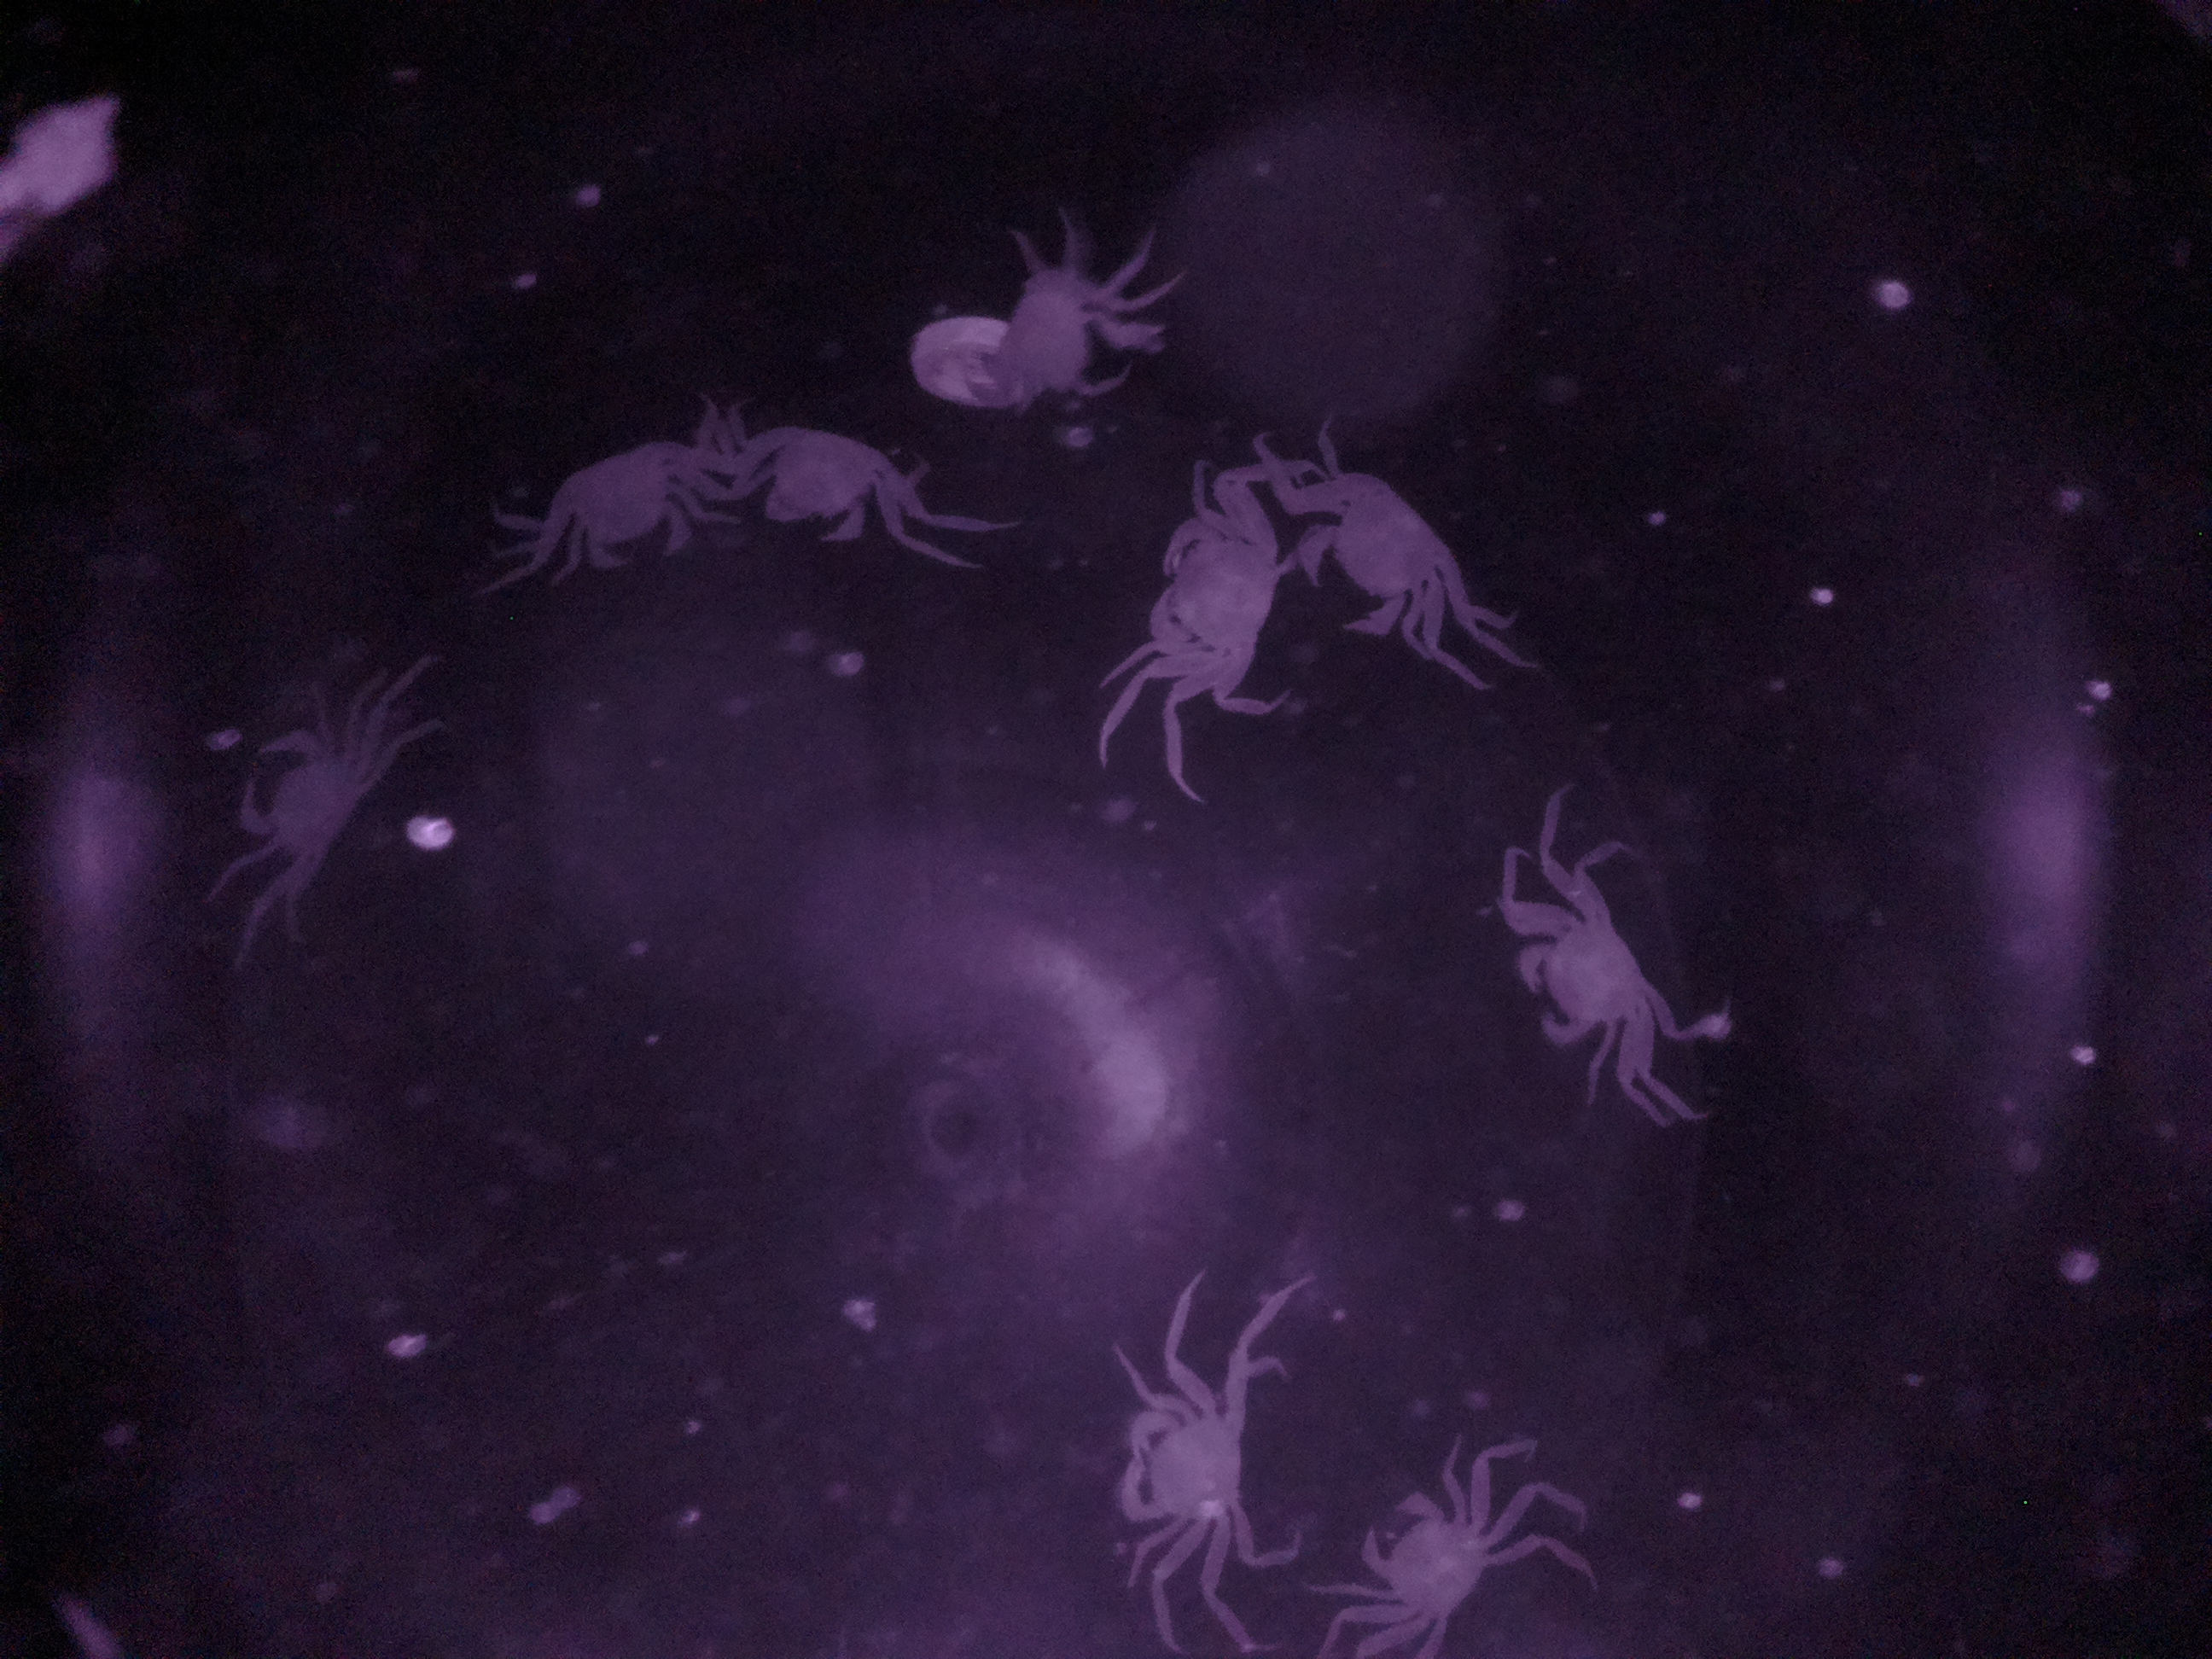Crab: (1287, 425, 1505, 673), (1089, 1323, 1263, 1568), (1332, 1436, 1521, 1654), (216, 704, 404, 906), (1501, 861, 1646, 1121), (723, 396, 897, 570), (535, 429, 718, 591)
